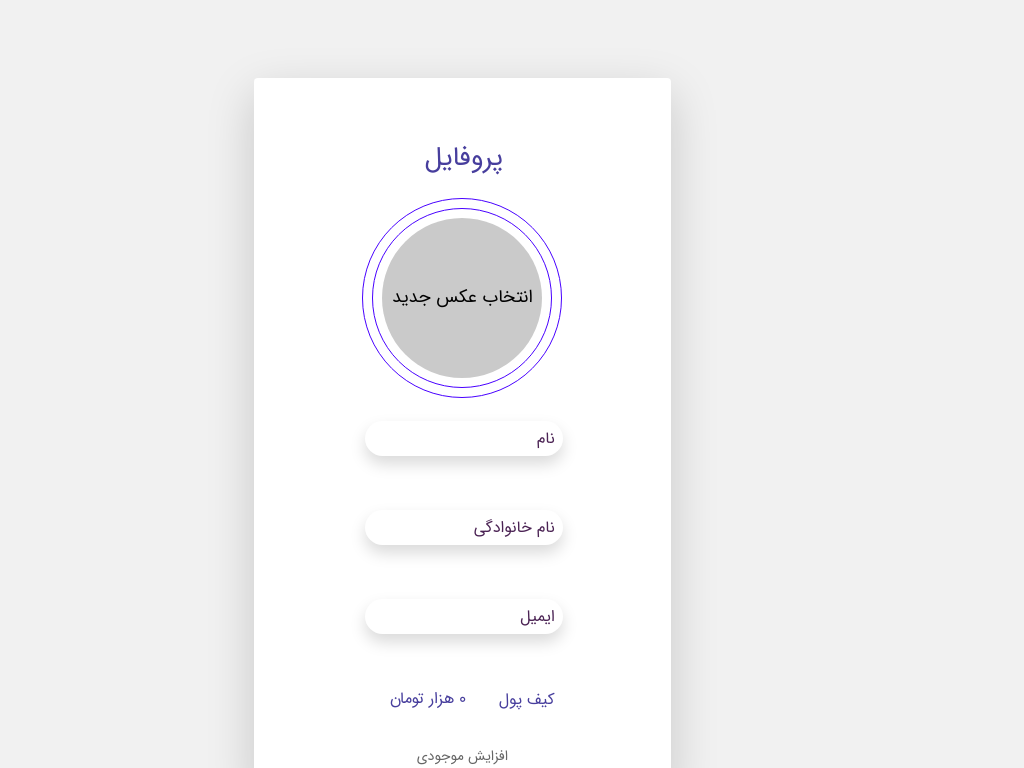
Expand body button › should render OrderModuleBody when clicked
The width and height of the screenshot is (1024, 768).
Click the text with test id "modalButton" at (462, 756), box x1=417 y1=745 x2=508 y2=767
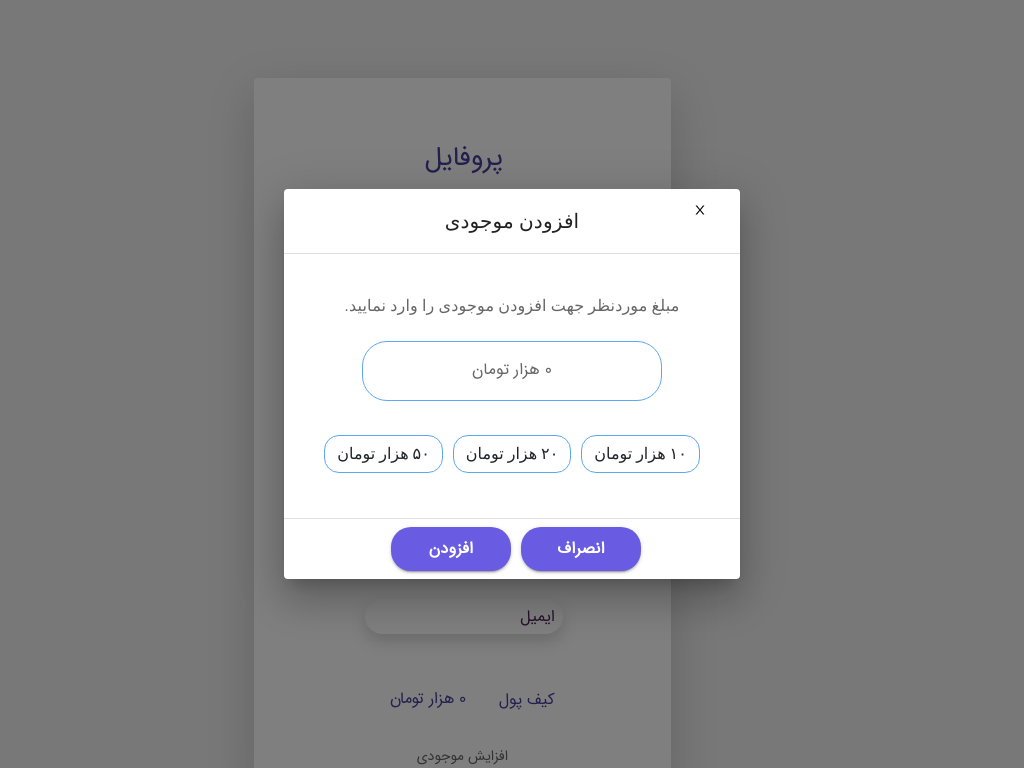
Result: the element with test id "modal" shows "مبلغ موردنظر جهت افزودن موجودی را وارد نمایید." at x1=345 y1=296 x2=679 y2=315
